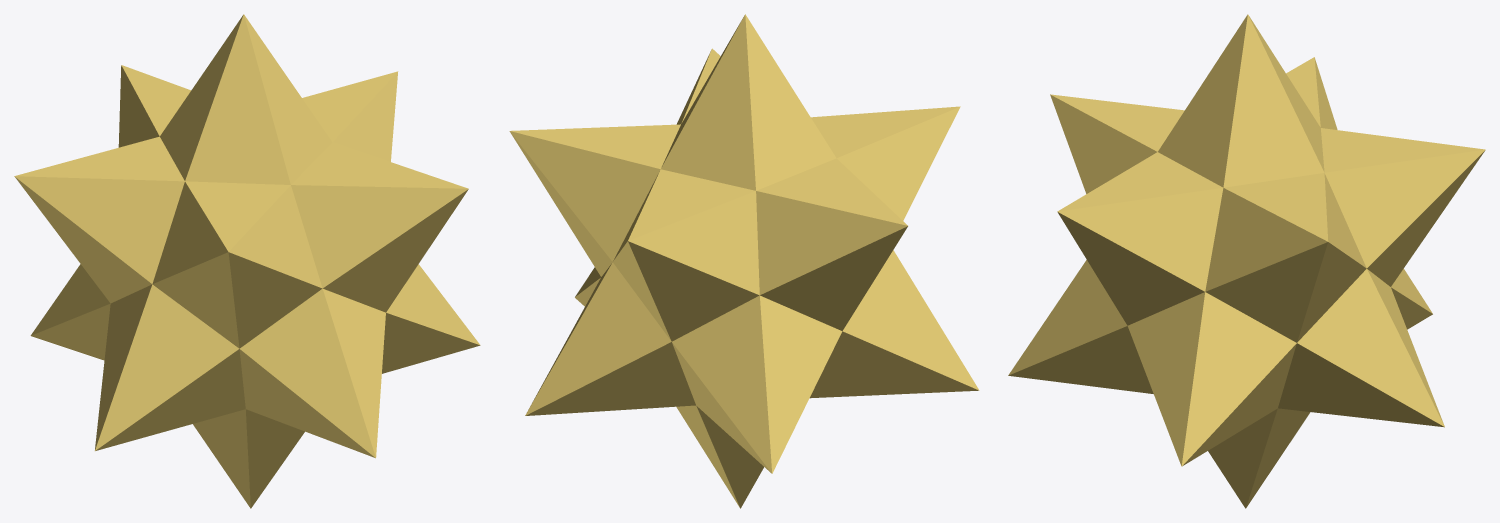
The model's file is smallStellatedDodecahedronGOLD.glb.
The picture shows the model from 3 angles, left to right: view 1: azimuth 30°, elevation 25°; view 2: azimuth 150°, elevation 25°; view 3: azimuth 270°, elevation 25°; orthographic projection.
Parts seen in each view (by area): view 1: dodecaedro; view 2: dodecaedro; view 3: dodecaedro.
Part boxes in pixels (left/top/right/bottom): dodecaedro: left=14, top=14, right=480, bottom=508; dodecaedro: left=509, top=14, right=979, bottom=508; dodecaedro: left=1008, top=14, right=1485, bottom=508.
Size of the model in its own units: 1.91 by 2.26 by 1.99.
